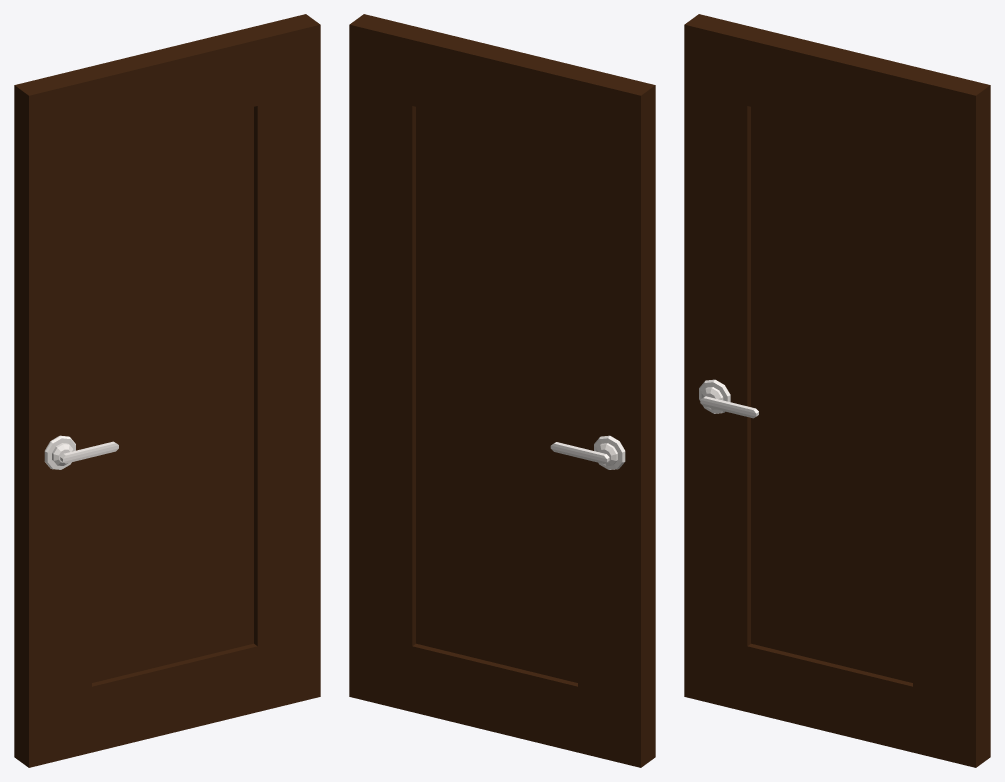
The model's file is DoorCutre.fbx.
3 views of the same model, side by side, from view 1: azimuth 30°, elevation 25°; view 2: azimuth 150°, elevation 25°; view 3: azimuth 330°, elevation 25° (orthographic).
Parts seen in each view (by area): view 1: Box003; view 2: Box003; view 3: Box003.
Part boxes in pixels (x1,y1,x2,y2): Box003: (14,14,320,767); Box003: (349,14,655,767); Box003: (684,14,990,767).
Bounding box in the file's own units: 92.6 × 204 × 18.03.
